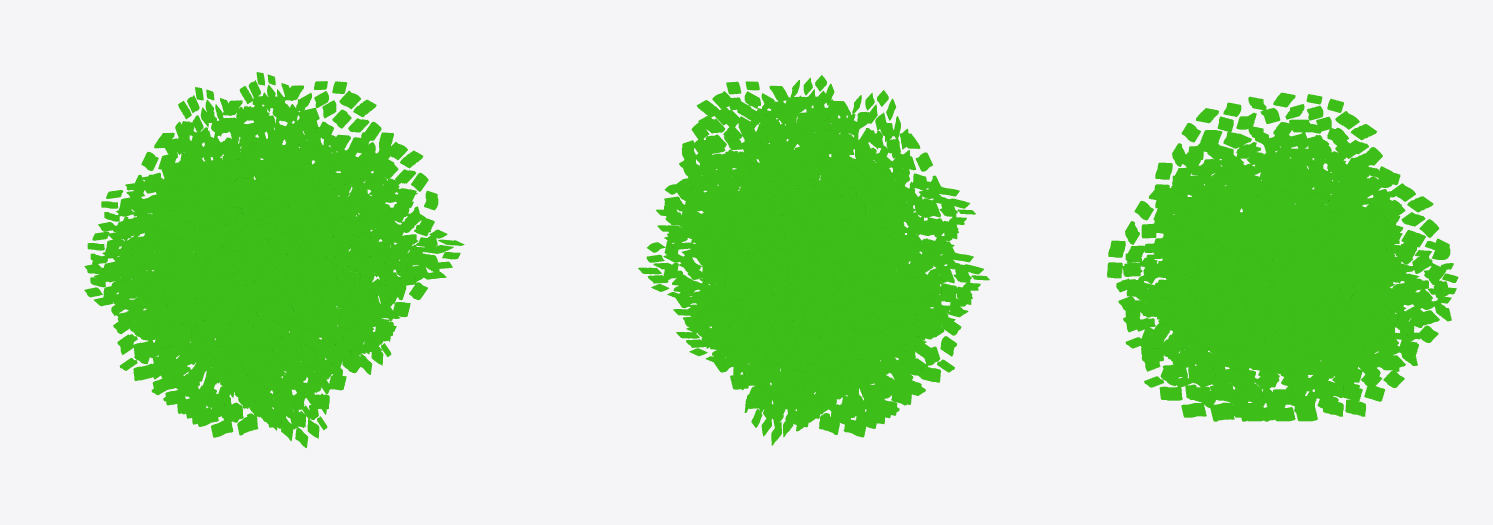
The model's file is Bush.fbx.
The picture shows the model from 3 angles, left to right: view 1: azimuth 30°, elevation 25°; view 2: azimuth 150°, elevation 25°; view 3: azimuth 270°, elevation 25°; orthographic projection. The views are drawn at different scales.
Visible parts, largest first — view 1: Leaves.005; view 2: Leaves.005; view 3: Leaves.005.
Boxes of the visible parts, x1,y1,x2,y2 form: Leaves.005: [84, 72, 464, 447]; Leaves.005: [638, 75, 989, 445]; Leaves.005: [1107, 92, 1458, 421].
Size of the model in its own units: 2.77 by 2.8 by 2.72.
